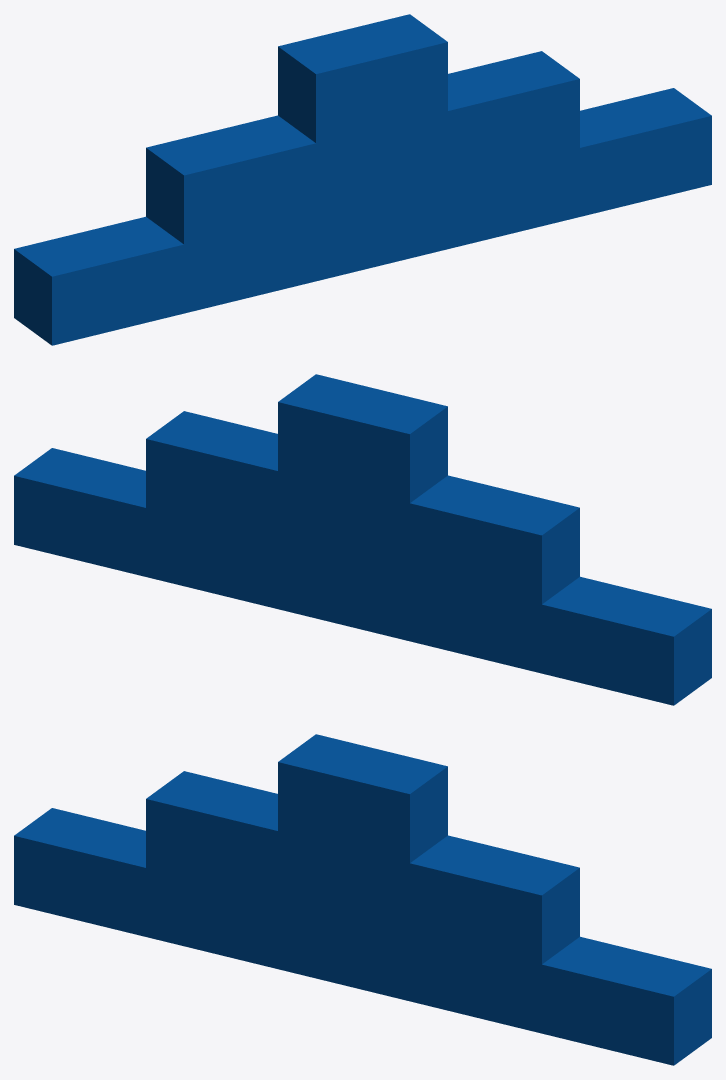
The model's file is ship.dae.
The picture shows the model from 3 angles, top to bottom: view 1: azimuth 30°, elevation 25°; view 2: azimuth 150°, elevation 25°; view 3: azimuth 330°, elevation 25°; orthographic projection.
Parts seen in each view (by area): view 1: ship; view 2: ship; view 3: ship.
Boxes of the visible parts, left/top/right/bottom form: ship: left=14, top=14, right=711, bottom=345; ship: left=14, top=374, right=711, bottom=705; ship: left=14, top=734, right=711, bottom=1065.
Size of the model in its own units: 10 by 3 by 1.
1 material, 1 textured.
